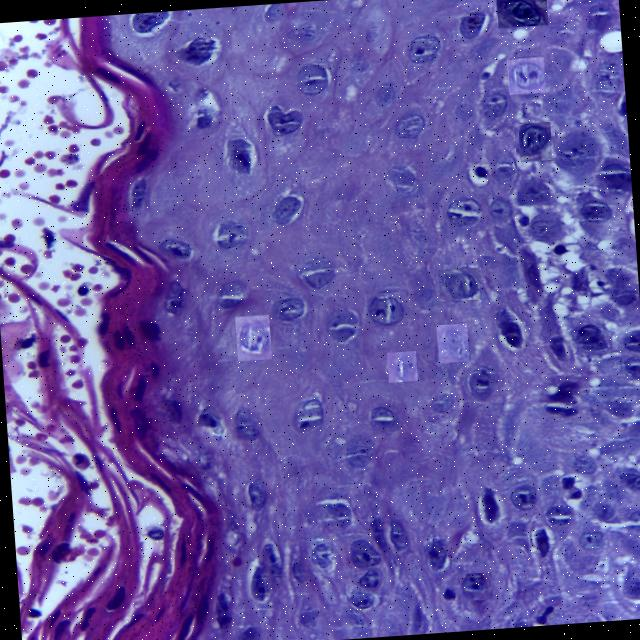Multiple Nucleol: (236, 315, 270, 358), (439, 267, 482, 300), (365, 292, 407, 325), (508, 57, 545, 92), (497, 0, 547, 25), (519, 122, 551, 160), (438, 323, 468, 360), (388, 350, 417, 381), (461, 572, 491, 599)
